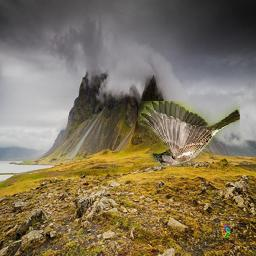Sparrow: (138, 101, 240, 167)
